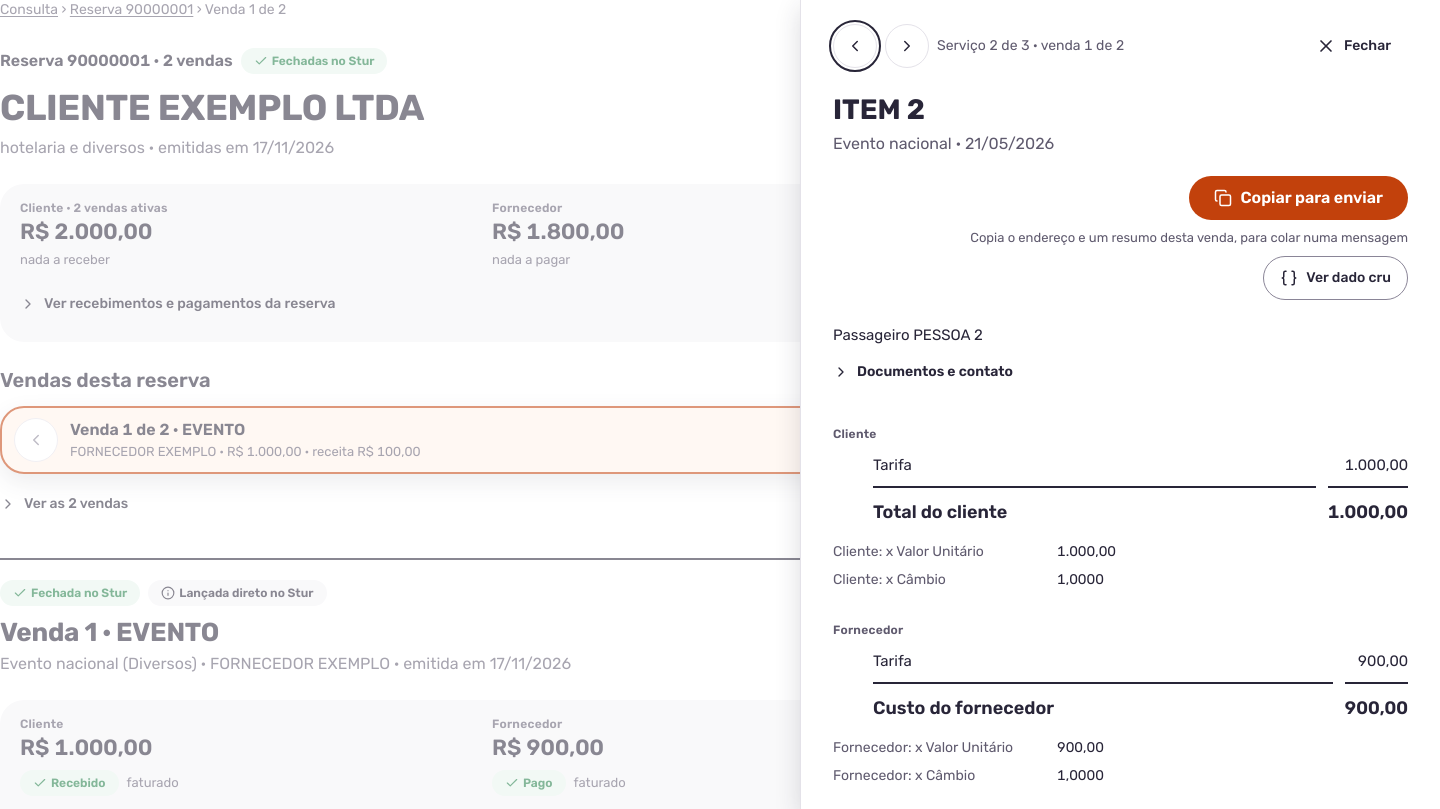
Test: o painel do serviço copia o serviço e o link dele, sem o CPF
What coordinates should you click on to do the following:
click the button "Copiar para enviar"
I would click on:
 (1299, 198)
Its box is [1189, 176, 1408, 220].
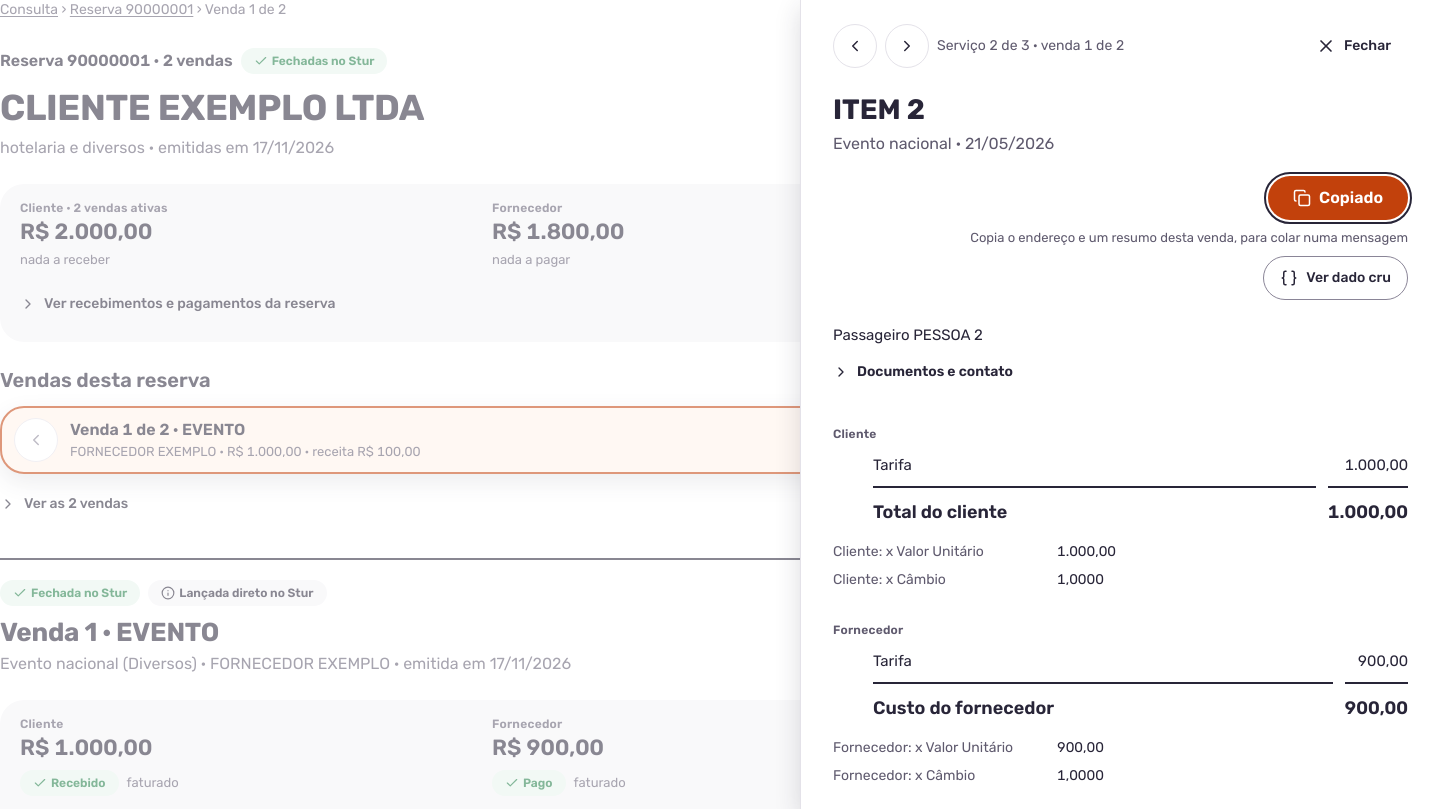
expect the button "Copiado" is shown: met, box [1268, 176, 1408, 220]
